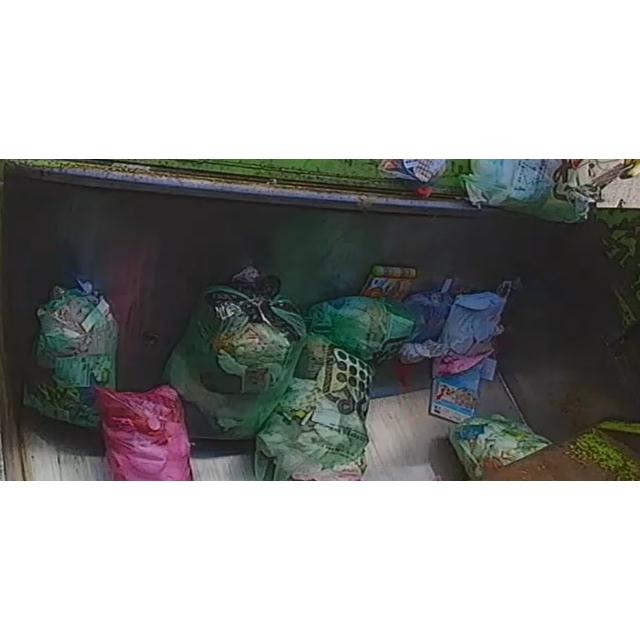general_trashbag: (165, 265, 306, 439), (255, 334, 372, 482), (24, 280, 118, 427), (309, 296, 415, 363), (449, 415, 551, 480)
other_trashbag: (96, 385, 192, 481)
